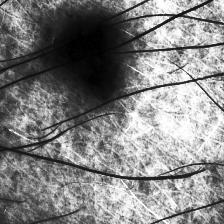Benign Marking or Mole: (43, 15, 122, 102)
